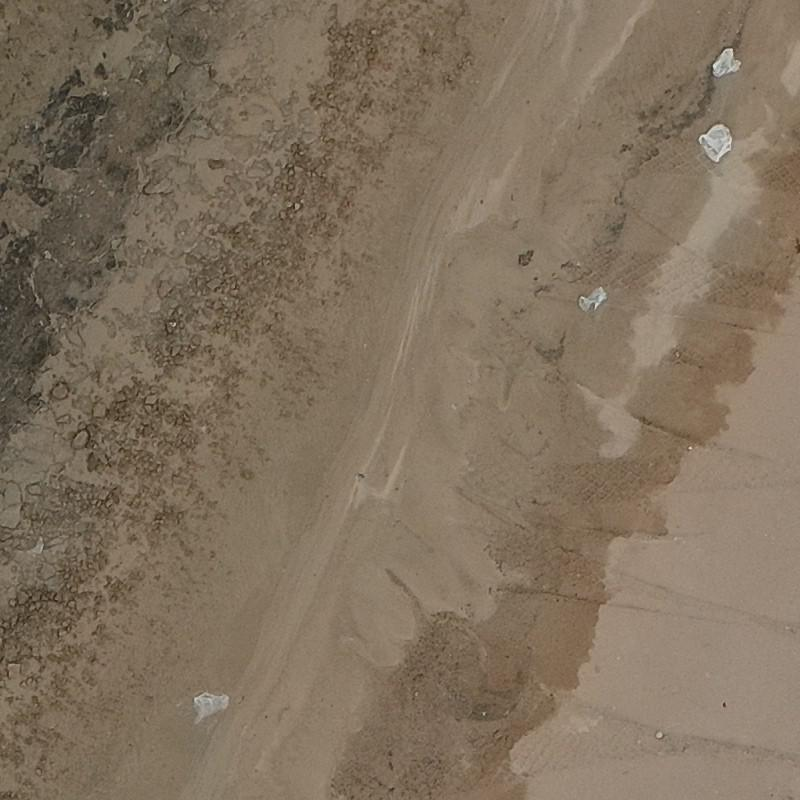coastal_litter: (700, 122, 733, 161), (192, 687, 226, 724), (710, 48, 741, 76), (576, 287, 610, 309)
